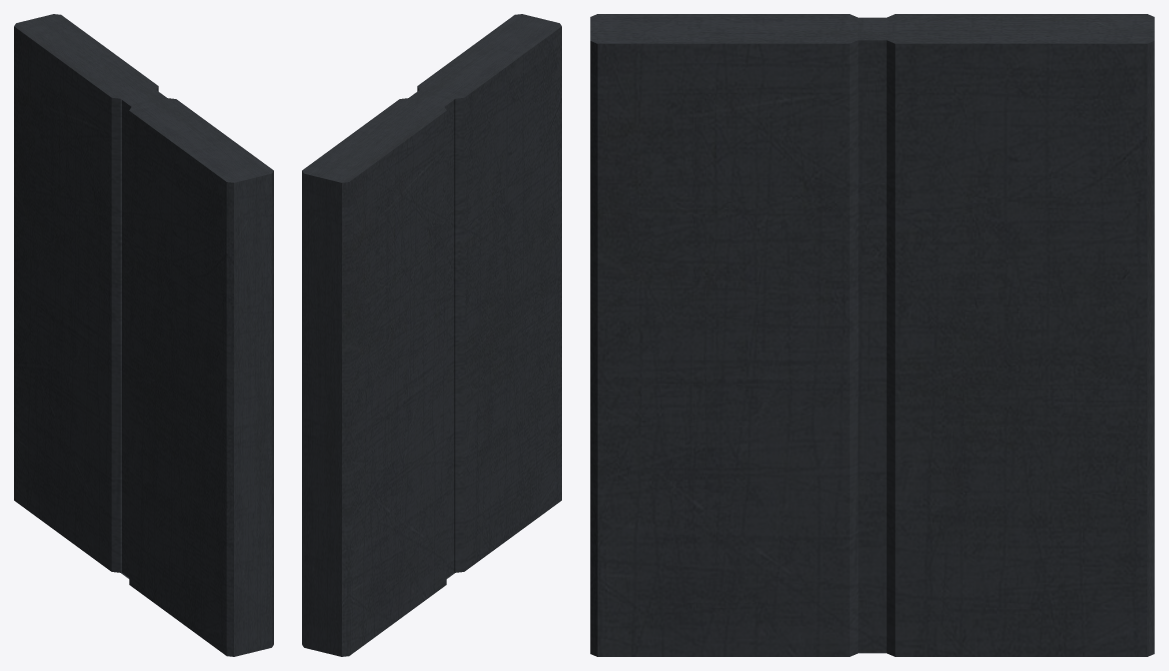
File: bigWall.FBX
3 renders of one model, left to right at view 1: azimuth 30°, elevation 25°; view 2: azimuth 150°, elevation 25°; view 3: azimuth 270°, elevation 25°, orthographic. The views are drawn at different scales.
Visible parts, largest first — view 1: Box015; view 2: Box015; view 3: Box015.
Boxes of the visible parts, x1=… form: Box015: x1=14, y1=14, x2=273, y2=656; Box015: x1=302, y1=14, x2=561, y2=656; Box015: x1=590, y1=14, x2=1154, y2=656.
Size of the model in its own units: 1 by 9.6 by 8.
1 material, 1 textured.
